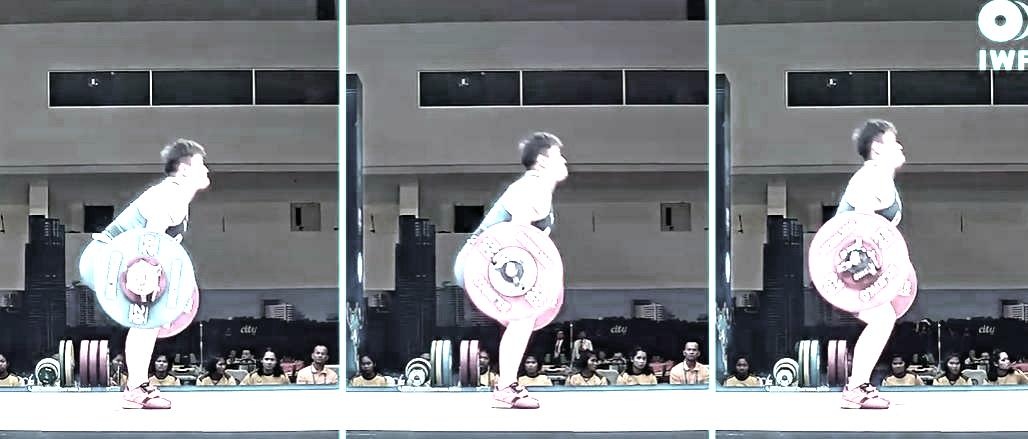Barbell: (503, 260, 521, 281), (848, 249, 863, 268), (133, 271, 150, 287)
